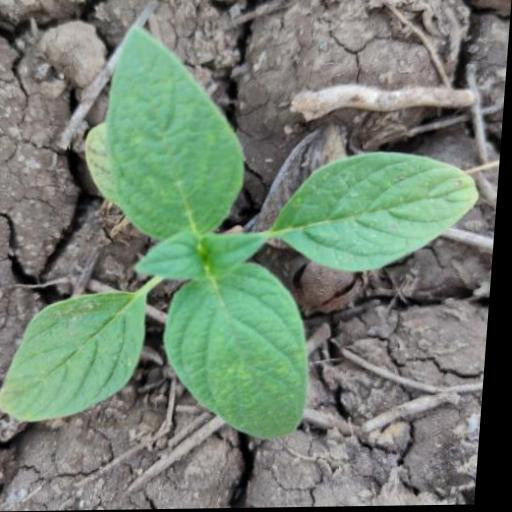crop: (0, 9, 501, 461)
